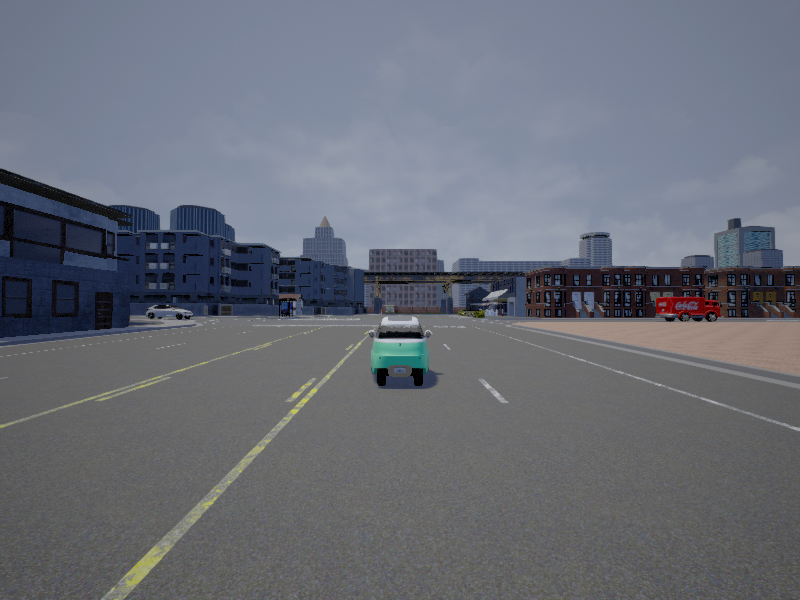Benign: (365, 316, 434, 390), (656, 296, 722, 322), (145, 304, 194, 322)
